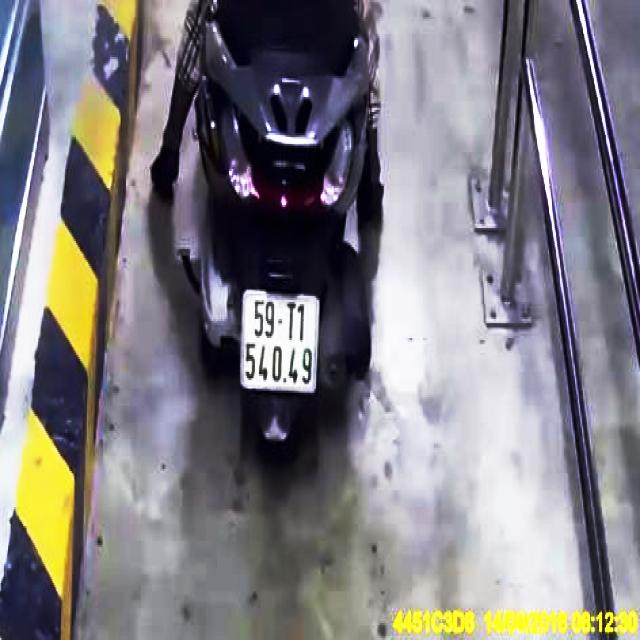license_plate: (241, 292, 320, 392)
